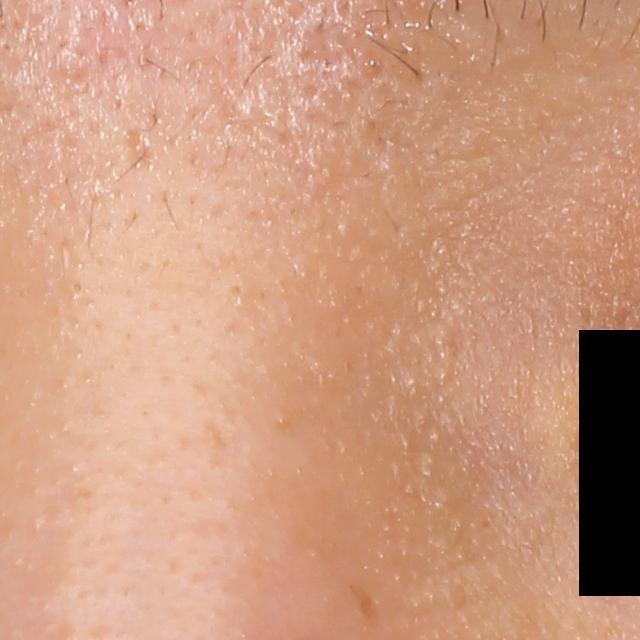atrophic_scar: (121, 124, 170, 174)
melasma: (346, 581, 384, 627)
